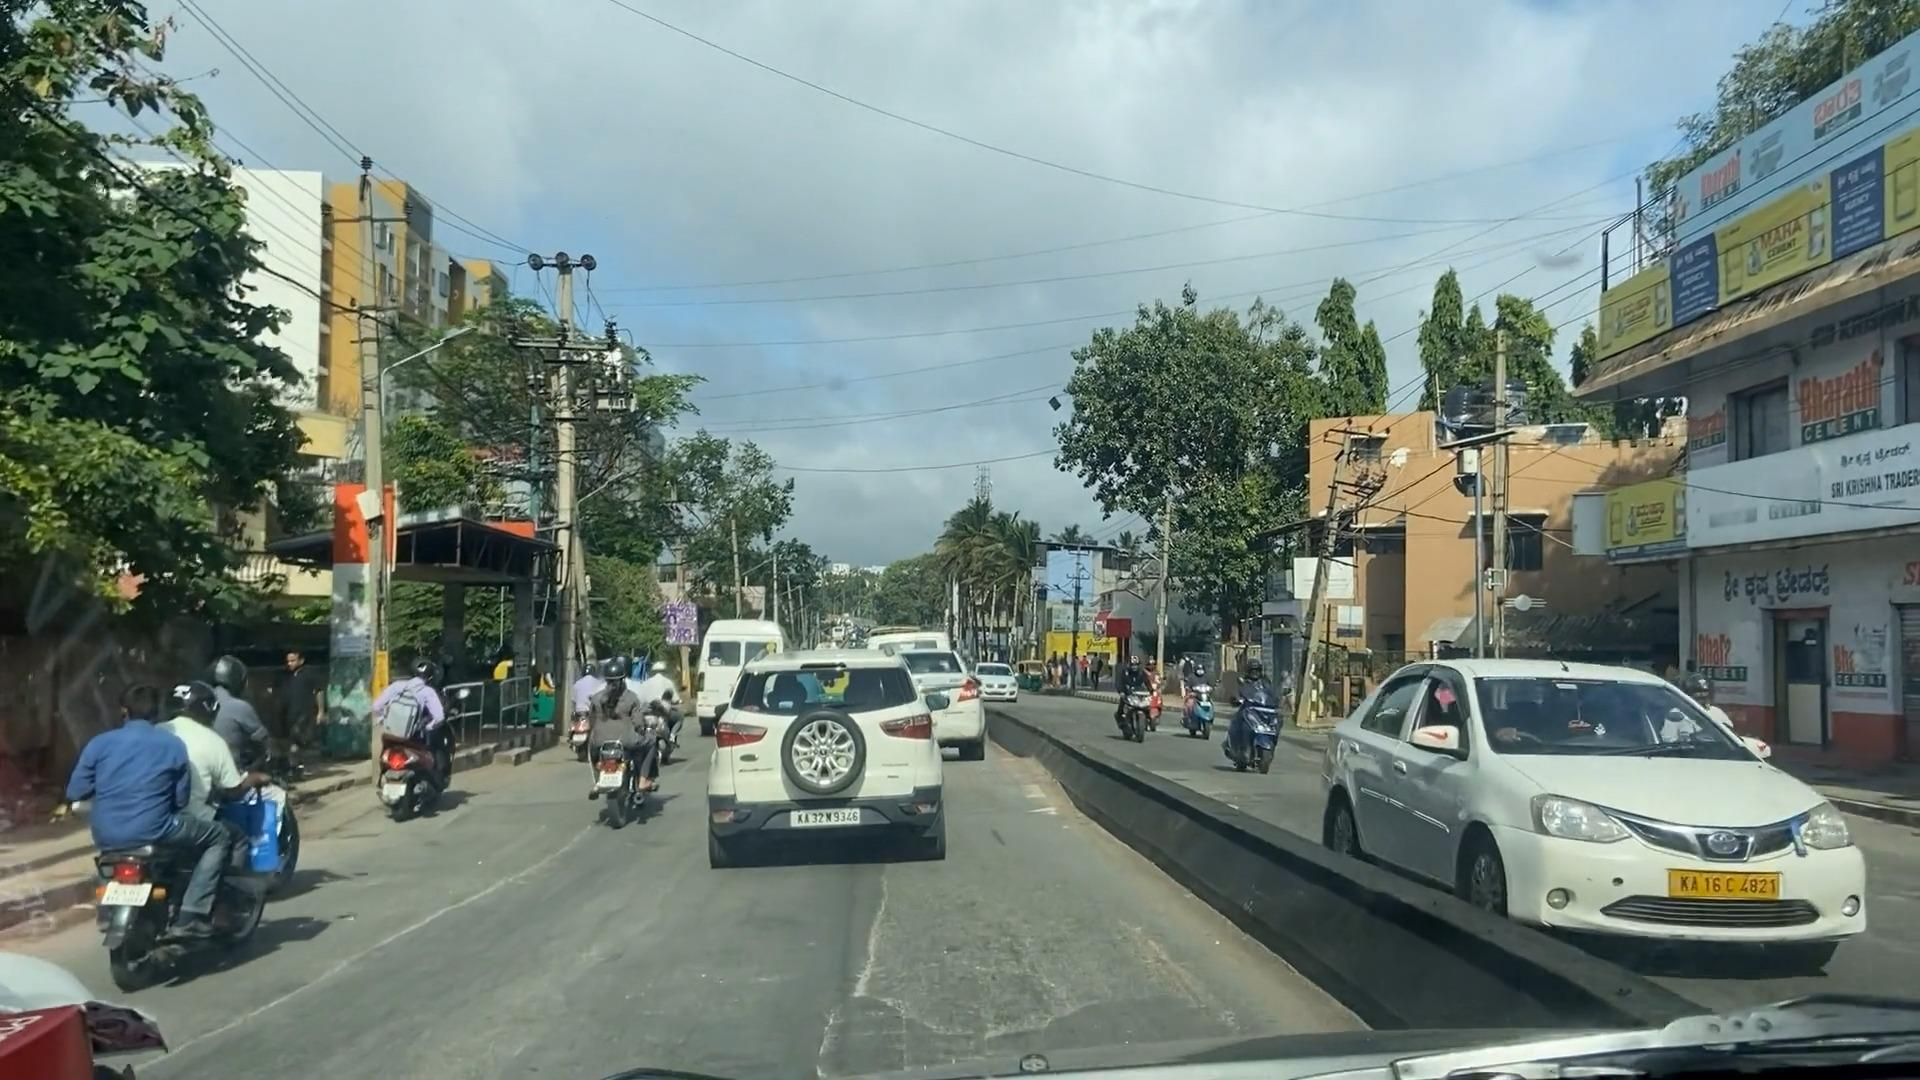LMV: (76, 682, 272, 947), (716, 658, 940, 866), (580, 676, 651, 827), (382, 661, 447, 816)
RoadDamages: (194, 824, 596, 1052), (812, 866, 1234, 1055)
